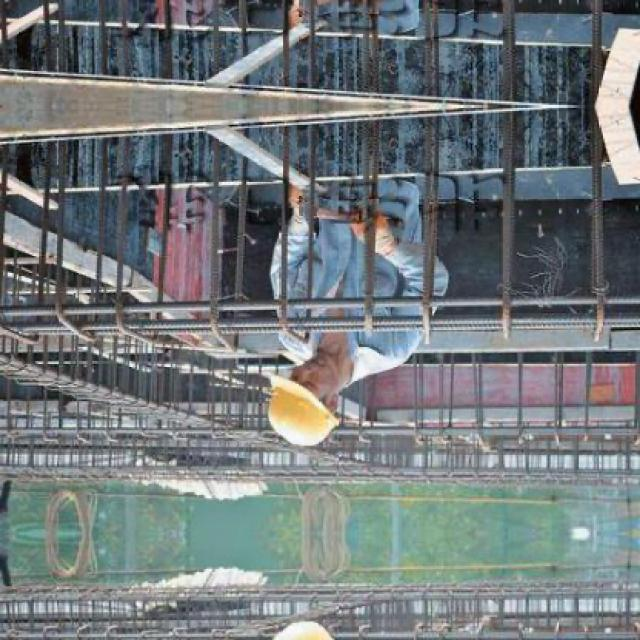con casco: (264, 344, 359, 460)
